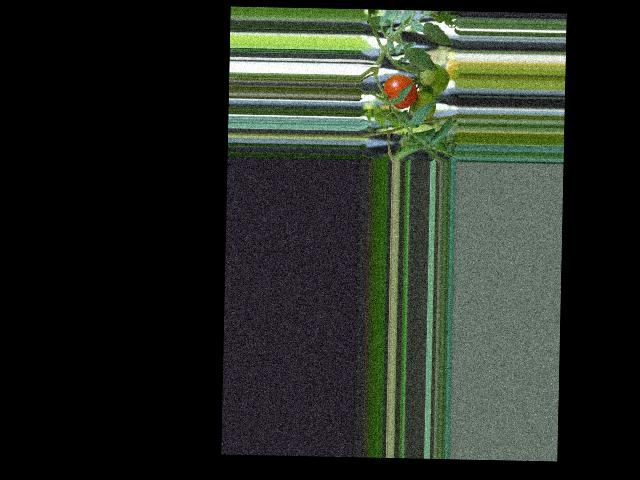tomato: (383, 73, 417, 108)
